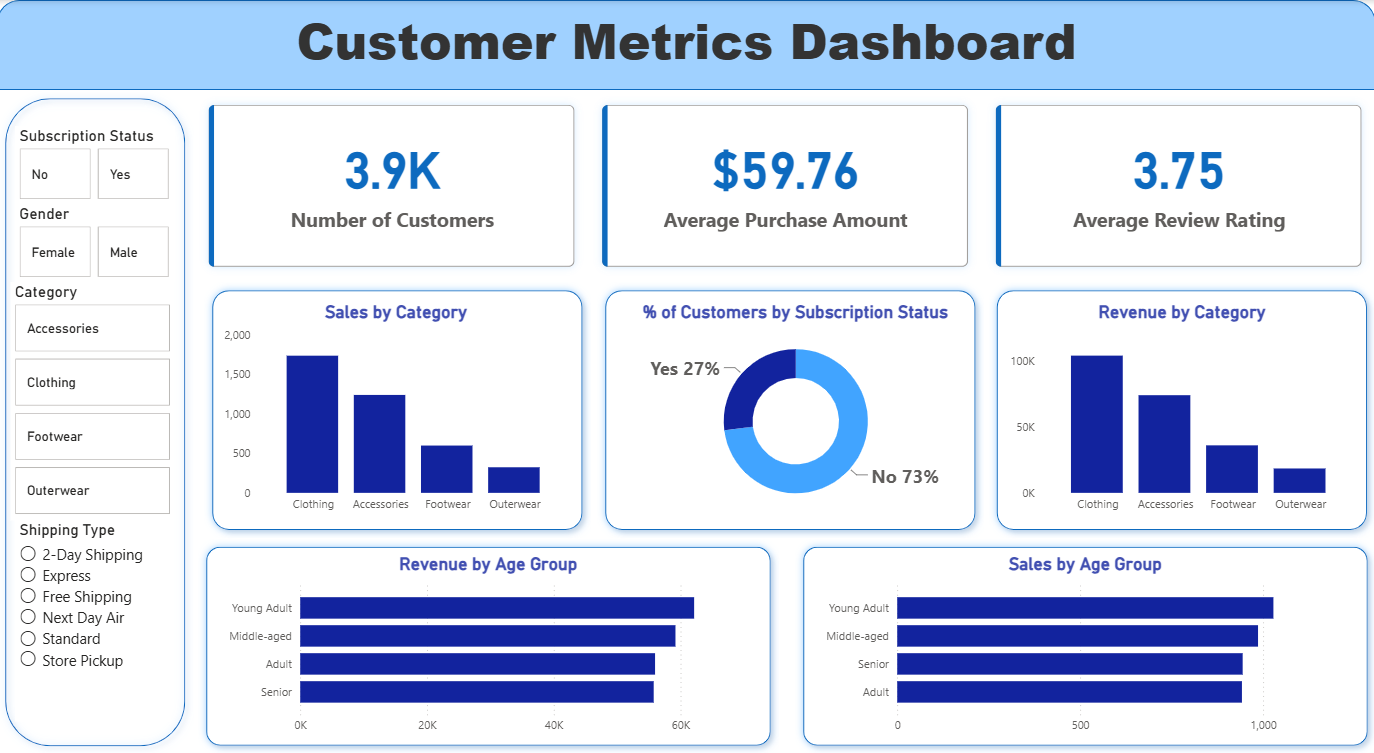

The page's visual inventory and layout, read from the dashboard file:
{"tool":"powerbi","page":{"name":"Page 1","canvas":[1500,820],"ordinal":0},"visuals":[{"type":"cardVisual","fields":{"Data":["public customer.Number of Customers","public customer.Average Purchase Amount","public customer.Average Review Rating"]},"box":[213.3,98.3,1286.7,208.3],"z":2000},{"type":"shape","box":[218.3,585.6,631.7,234.2],"z":2500,"group":"g1"},{"type":"shape","box":[0,0,1499.2,97.9],"z":3000},{"type":"textbox","box":[0,0,1500,98],"z":4000},{"type":"shape","box":[225.4,307,420.5,278.6],"z":5000},{"type":"shape","box":[652.1,307,420.5,278.6],"z":5500},{"type":"donutChart","title":"% of Customers by Subscription Status","fields":{"Category":["public customer.subscription_status"],"Y":["CountNonNull(public customer.customer_id)"]},"box":[680,328.3,376.2,237.8],"z":6000},{"type":"shape","box":[1078.9,307,420.5,278.6],"z":7000},{"type":"clusteredColumnChart","title":"Revenue by Category","fields":{"Y":["Sum(public customer.purchase_amount)"],"Category":["public customer.category"]},"box":[1096.6,328.3,385.1,237.8],"z":9000},{"type":"clusteredColumnChart","title":"Sales by Category","fields":{"Y":["CountNonNull(public customer.customer_id)"],"Category":["public customer.category"]},"box":[241.7,328.3,385.1,237.8],"z":10000},{"type":"shape","box":[0,97.9,213.7,722.7],"z":11000},{"type":"advancedSlicerVisual","fields":{"Values":["public customer.subscription_status"]},"box":[20,136.7,173.9,85.2],"z":12000},{"type":"advancedSlicerVisual","fields":{"Values":["public customer.gender"]},"box":[20,222.2,173.9,85.2],"z":13000},{"type":"advancedSlicerVisual","fields":{"Values":["public customer.category"]},"box":[14.5,307.2,178.3,259.4],"z":14000},{"type":"listSlicer","fields":{"Values":["public customer.shipping_type"]},"box":[18.8,566.7,169.6,218.8],"z":15000},{"type":"shape","box":[867.7,585.6,631.7,234.2],"z":16000},{"type":"clusteredBarChart","title":"Sales by Age Group","fields":{"Y":["CountNonNull(public customer.customer_id)"],"Category":["public customer.age_group"]},"box":[890.8,601.5,585.6,204.1],"z":17000},{"type":"clusteredBarChart","title":"Revenue by Age Group","fields":{"Y":["Sum(public customer.purchase_amount)"],"Category":["public customer.age_group"]},"box":[241.4,601.6,585.6,204.1],"z":17500,"group":"g1"},{"type":"group","id":"g1","title":"Group 1","box":[218.3,585.6,631.7,234.2],"z":17501}]}

Visuals, with their boxes in screenshot pixels (x1, y1, x2, y2), scaled from the page's 1500x820 canvas onto the 1374x753 screenshot:
cardVisual - public customer.Number of Customers x public customer.Average Purchase Amount: rect(195, 90, 1373, 282)
shape: rect(200, 538, 779, 752)
shape: rect(0, 0, 1373, 90)
textbox: rect(0, 0, 1373, 90)
shape: rect(206, 282, 592, 538)
shape: rect(597, 282, 983, 538)
"% of Customers by Subscription Status" donutChart: rect(623, 301, 967, 520)
shape: rect(988, 282, 1373, 538)
"Revenue by Category" clusteredColumnChart: rect(1004, 301, 1357, 520)
"Sales by Category" clusteredColumnChart: rect(221, 301, 574, 520)
shape: rect(0, 90, 196, 752)
advancedSlicerVisual - public customer.subscription_status: rect(18, 126, 178, 204)
advancedSlicerVisual - public customer.gender: rect(18, 204, 178, 282)
advancedSlicerVisual - public customer.category: rect(13, 282, 177, 520)
listSlicer - public customer.shipping_type: rect(17, 520, 173, 721)
shape: rect(795, 538, 1373, 752)
"Sales by Age Group" clusteredBarChart: rect(816, 552, 1352, 740)
"Revenue by Age Group" clusteredBarChart: rect(221, 552, 758, 740)
"Group 1" group: rect(200, 538, 779, 752)
